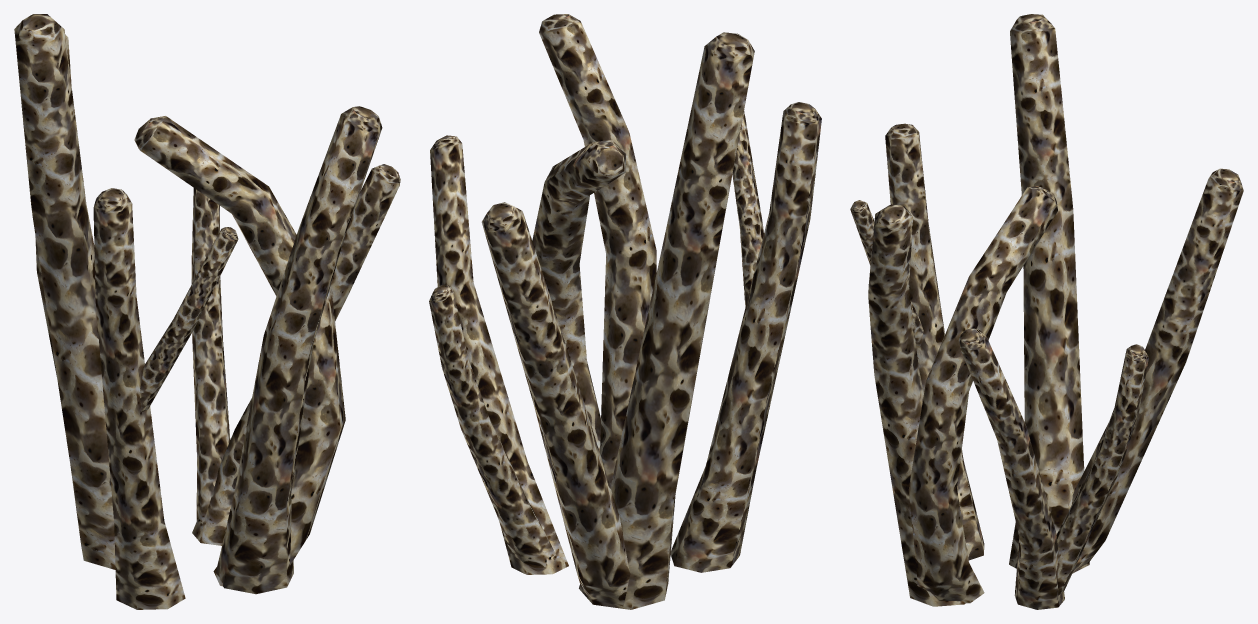
Rendered from CoralStone-06_LOD0.fbx.
3 renders of one model, left to right at view 1: azimuth 30°, elevation 25°; view 2: azimuth 150°, elevation 25°; view 3: azimuth 270°, elevation 25°, orthographic. The views are drawn at different scales.
Parts seen in each view (by area): view 1: CoralStone-06_high; view 2: CoralStone-06_high; view 3: CoralStone-06_high.
Boxes of the visible parts, x1,y1,x2,y2 form: CoralStone-06_high: (14, 14, 400, 609); CoralStone-06_high: (429, 14, 821, 609); CoralStone-06_high: (850, 14, 1243, 609).
Bounding box in the file's own units: 0.2587 × 0.3984 × 0.2817.
